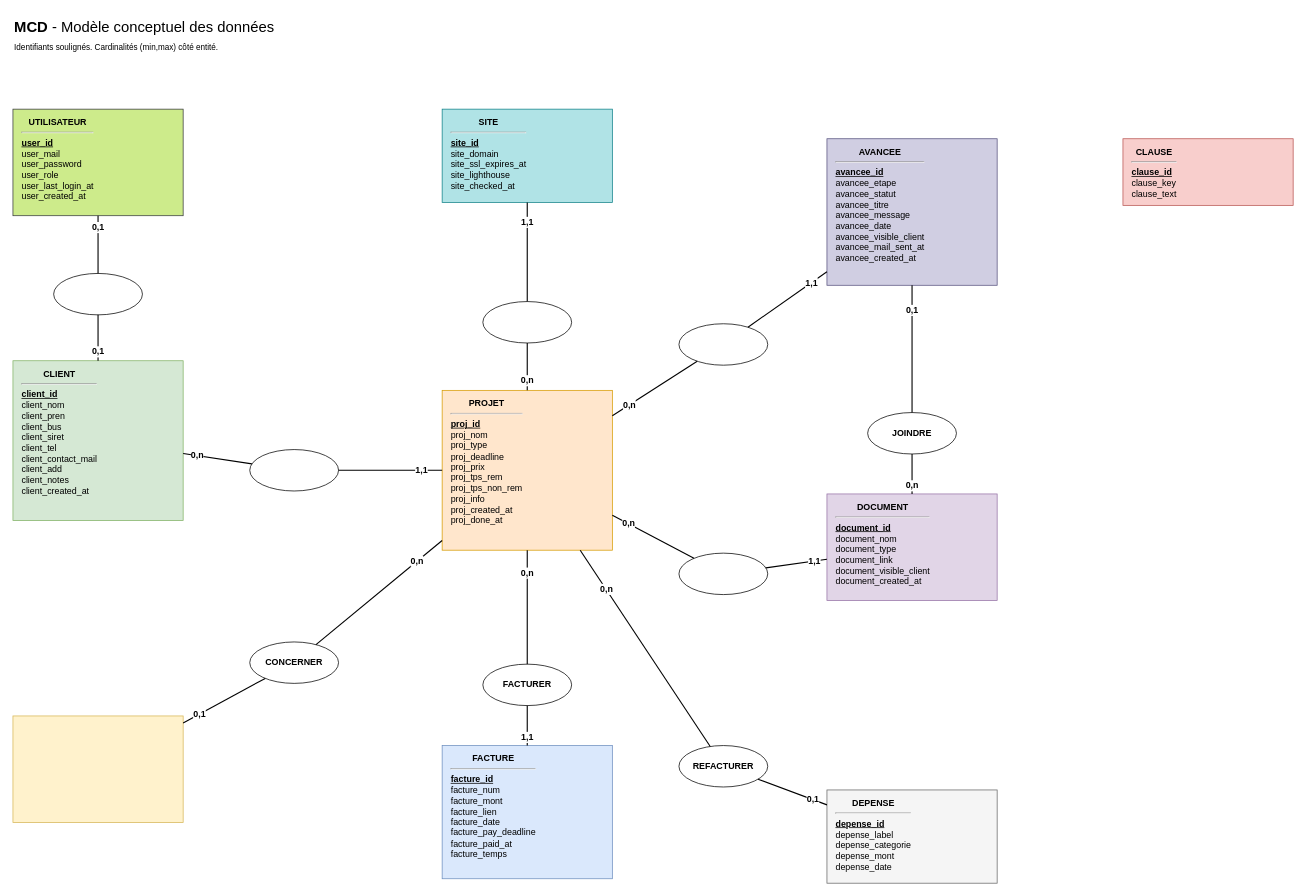
Image size: 1306x896. Some labels were removed from this diagram. The shapes that lost their labels are listed below. From the top down, each one's centre as x and y in pixels, then its label:
At (x=97, y=294): "ACCÉDER".
At (x=527, y=322): "HÉBERGER".
At (x=723, y=344): "CONTENIR".
At (x=294, y=470): "POSSÉDER".
At (x=723, y=573): "STOCKER".
At (x=97, y=769): "TODO todo_id todo_title todo_done todo_due todo_reminder_sent_at todo_created_at".
